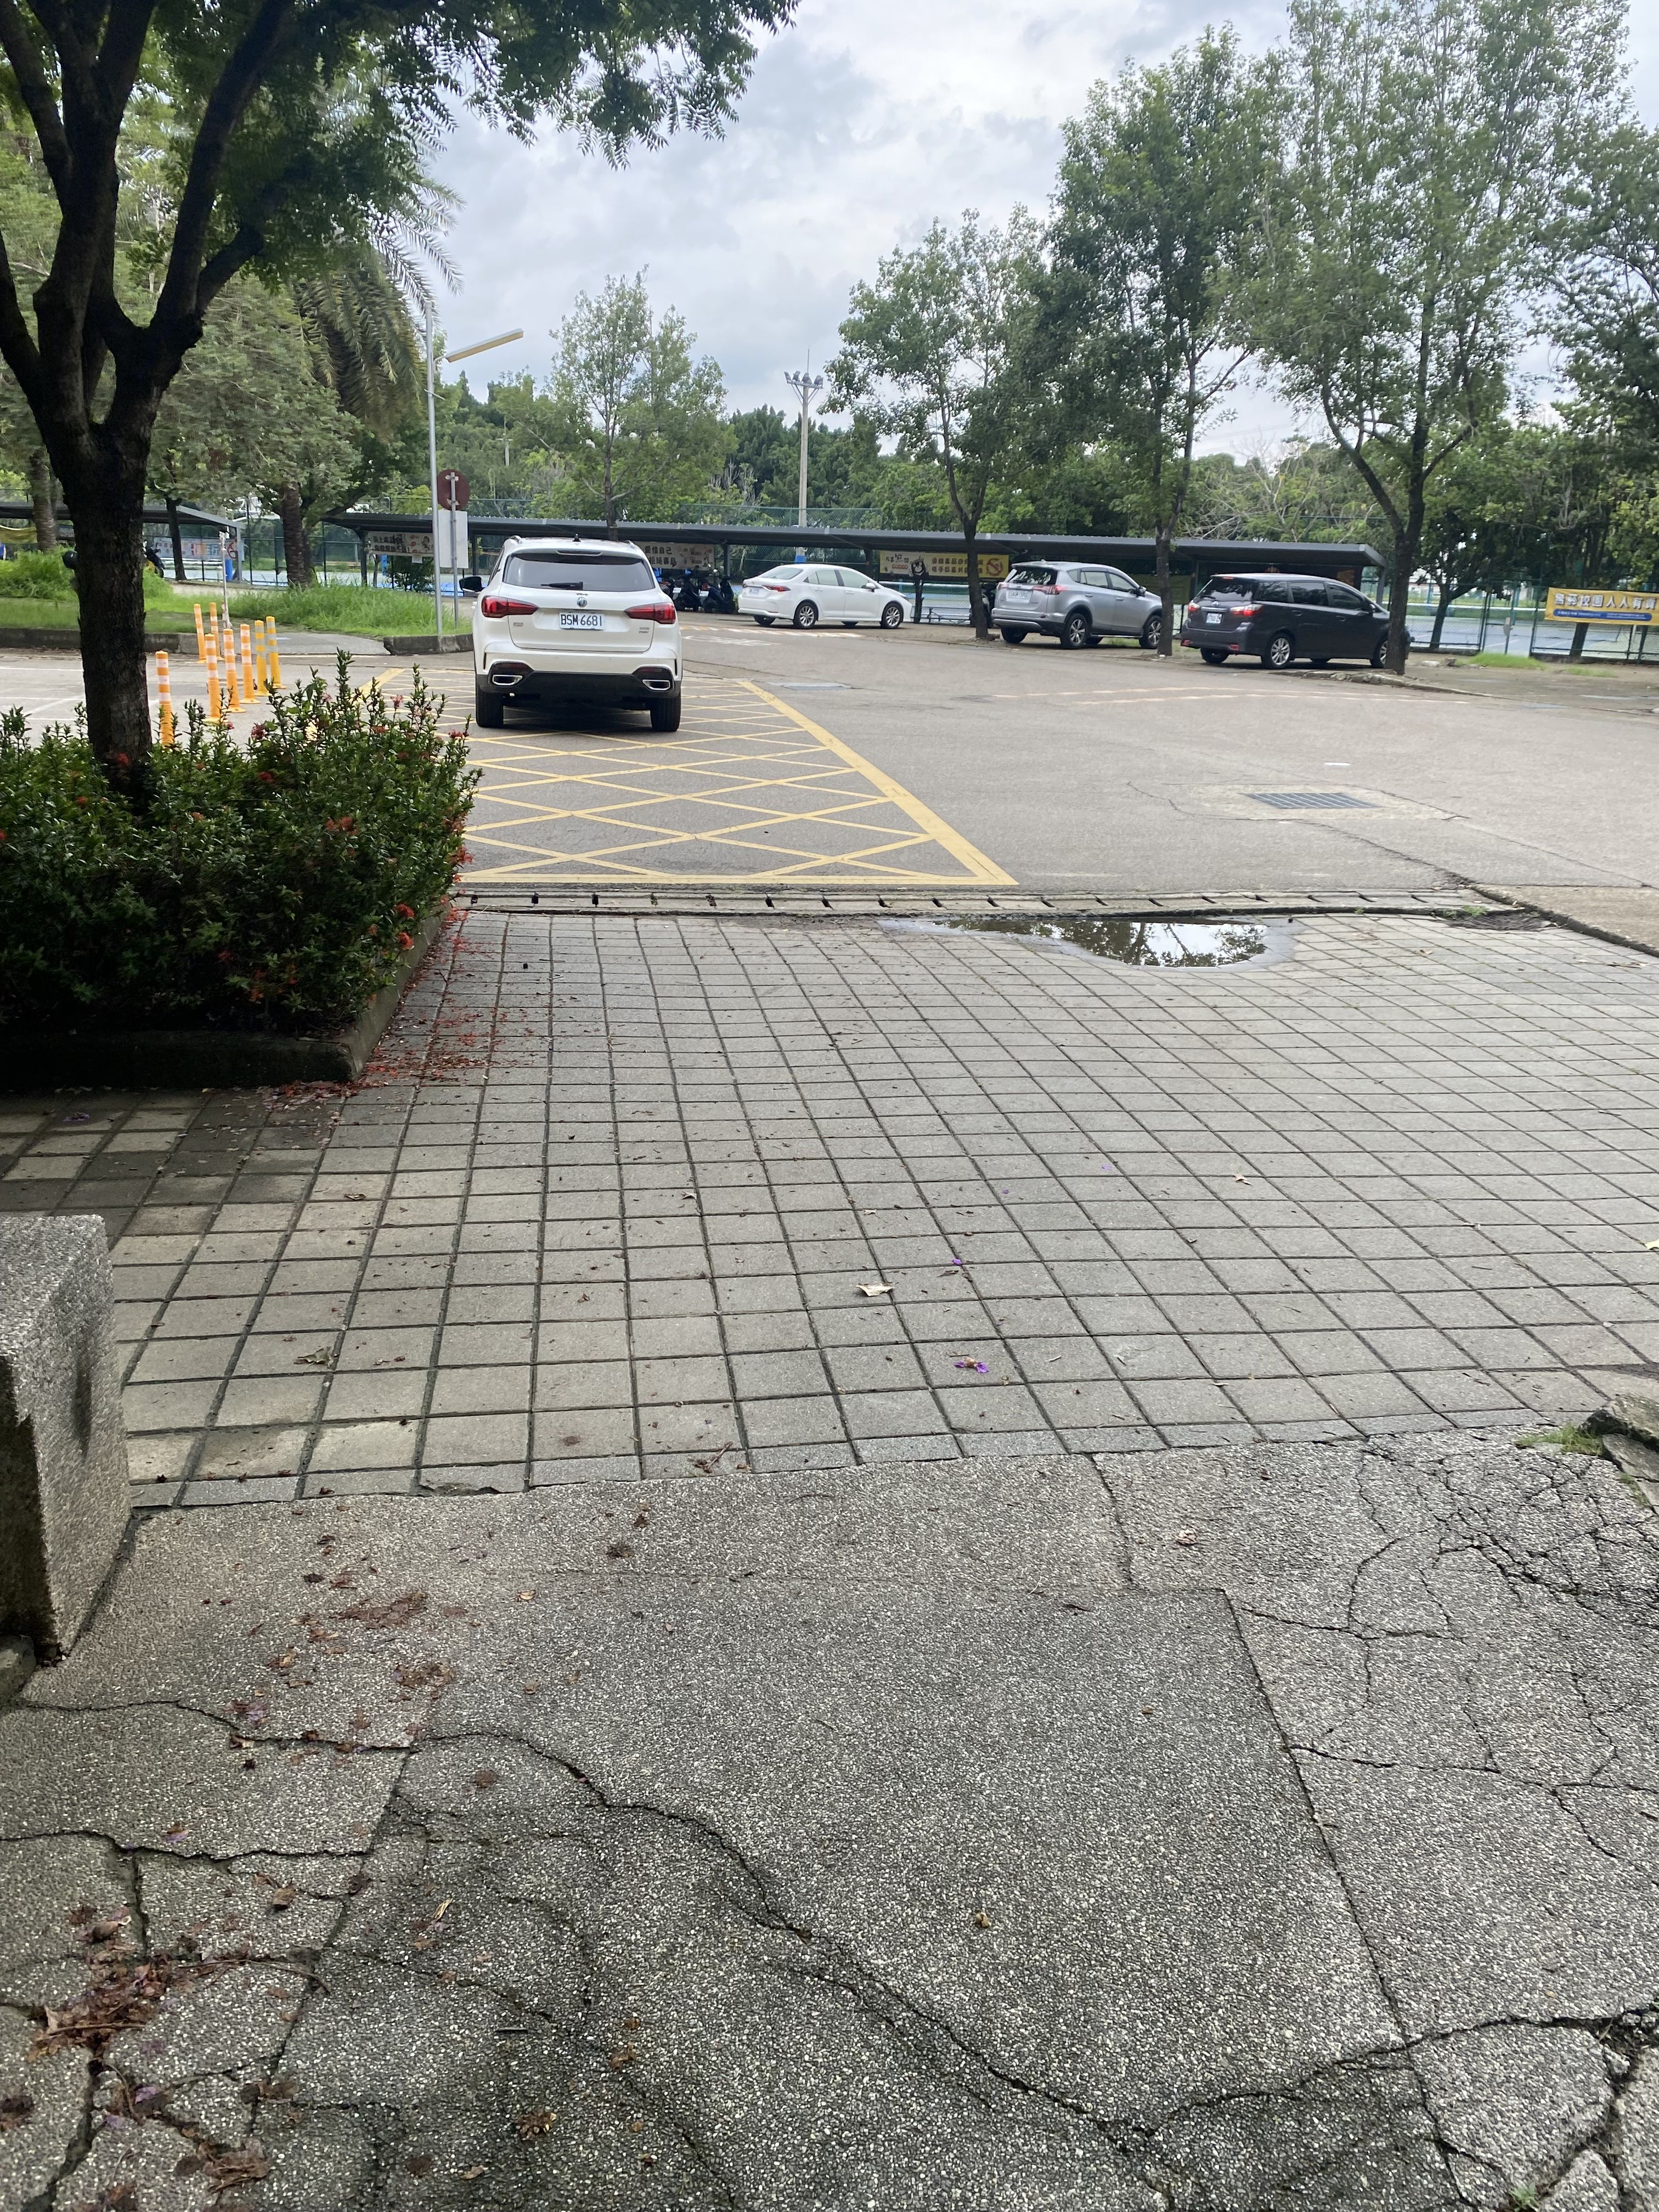sidewalk: (0, 867, 1659, 2212)
